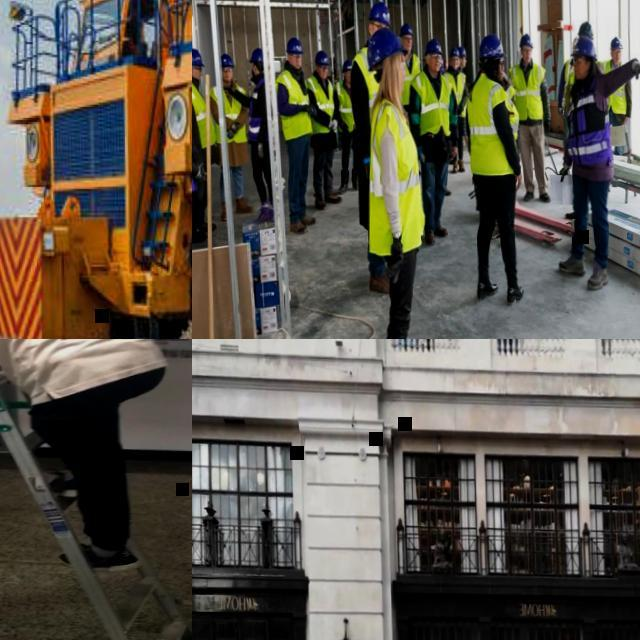Helmet: (359, 26, 411, 74), (477, 30, 512, 64), (362, 0, 396, 31), (567, 36, 602, 64), (566, 17, 602, 41), (396, 17, 416, 47), (188, 43, 207, 74), (279, 39, 307, 60), (246, 43, 271, 66), (213, 50, 234, 69), (316, 46, 332, 67), (518, 33, 538, 49), (604, 34, 624, 50), (428, 36, 442, 56), (460, 42, 471, 62), (453, 42, 461, 64)
Robbery: (0, 339, 184, 592), (560, 47, 640, 314), (362, 31, 427, 334), (466, 24, 532, 313), (517, 23, 562, 208), (236, 40, 280, 213), (273, 31, 308, 237), (304, 27, 340, 224), (210, 41, 254, 197), (420, 32, 449, 268), (187, 45, 217, 248), (356, 0, 391, 164), (602, 21, 636, 175), (564, 10, 616, 99), (332, 50, 358, 211), (449, 30, 464, 179), (396, 27, 420, 100)
